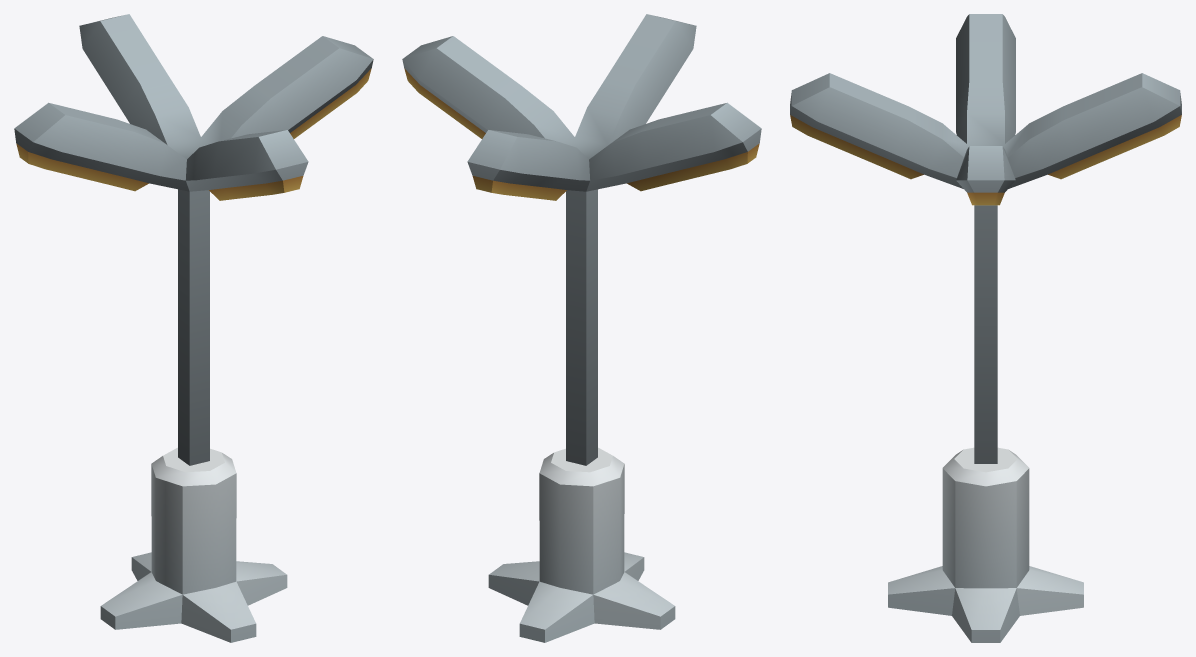
Rendered from ElectricStation.glb.
The picture shows the model from 3 angles, left to right: view 1: azimuth 30°, elevation 25°; view 2: azimuth 150°, elevation 25°; view 3: azimuth 270°, elevation 25°; orthographic projection.
Visible parts, largest first — view 1: lights_Cube.001; view 2: lights_Cube.001; view 3: lights_Cube.001.
Boxes of the visible parts, x1=… form: lights_Cube.001: x1=14, y1=14, x2=373, y2=642; lights_Cube.001: x1=402, y1=14, x2=761, y2=642; lights_Cube.001: x1=790, y1=14, x2=1181, y2=642.
Bounding box in the file's own units: 0.5368 × 0.7882 × 0.5368.
Materials: 1 (1 with a texture image).
